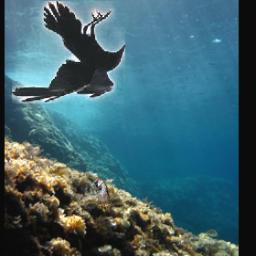Crow: (12, 1, 125, 103)
Sparrow: (94, 178, 113, 213)
